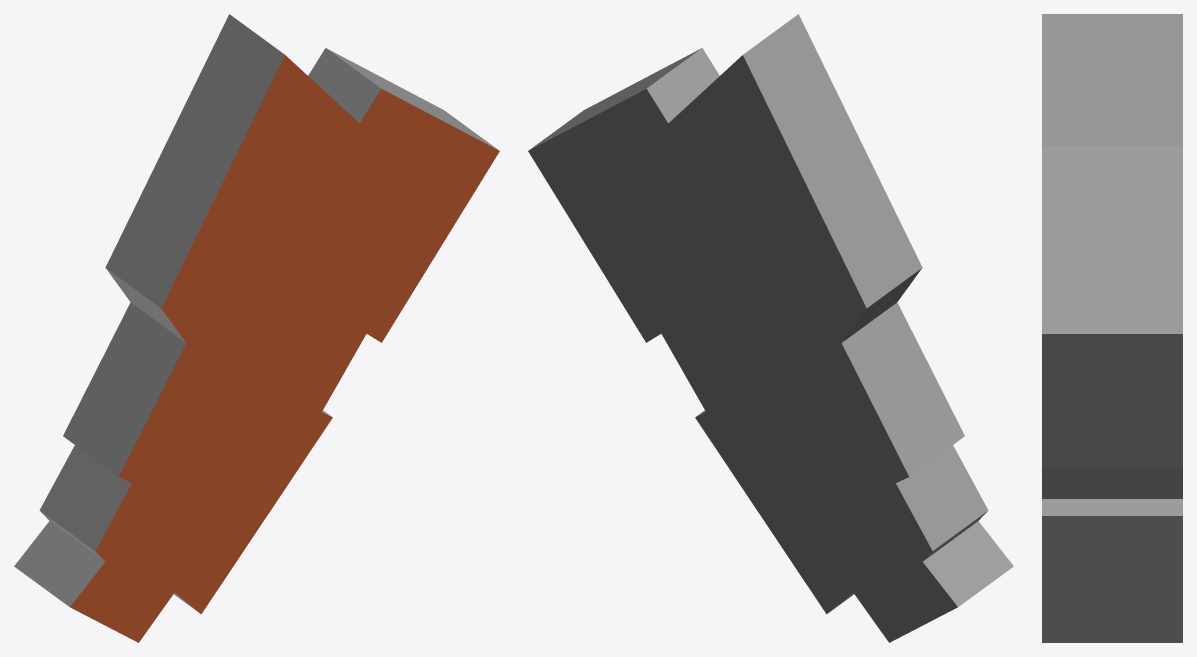
The model's file is construction_2000_assumed_A_Casa_h6m.obj.
3 views of the same model, side by side, from view 1: azimuth 30°, elevation 25°; view 2: azimuth 150°, elevation 25°; view 3: azimuth 270°, elevation 25° (orthographic). The views are drawn at different scales.
Visible parts, largest first — view 1: construction_2000_assumed_A_Casa; view 2: construction_2000_assumed_A_Casa; view 3: construction_2000_assumed_A_Casa.
Boxes of the visible parts, x1,y1,x2,y2 form: construction_2000_assumed_A_Casa: (14, 14, 499, 642); construction_2000_assumed_A_Casa: (528, 14, 1013, 642); construction_2000_assumed_A_Casa: (1042, 14, 1182, 642).
Bounding box in the file's own units: 26.7 × 32.76 × 6.
